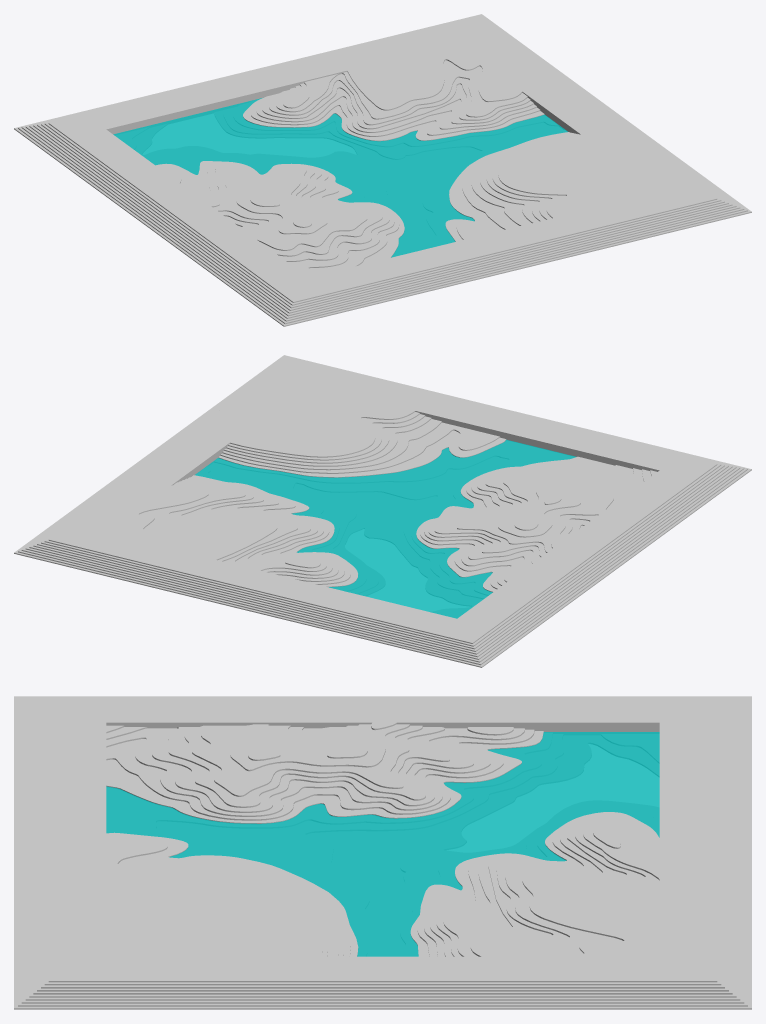
File: topo.glb
3 renders of one model, top to bottom at view 1: azimuth 30°, elevation 25°; view 2: azimuth 150°, elevation 25°; view 3: azimuth 270°, elevation 25°, orthographic. The views are drawn at different scales.
Parts seen in each view (by area): view 1: topo, water; view 2: topo, water; view 3: topo, water.
Boxes of the visible parts, box(x1,y1,x2,y2) form: topo: box(14, 14, 751, 326); water: box(113, 97, 567, 257); topo: box(14, 355, 751, 667); water: box(195, 439, 576, 618); topo: box(14, 696, 751, 1009); water: box(106, 732, 659, 956).
Size of what is drawn, in the model's own units: 48 by 1.1 by 48.
